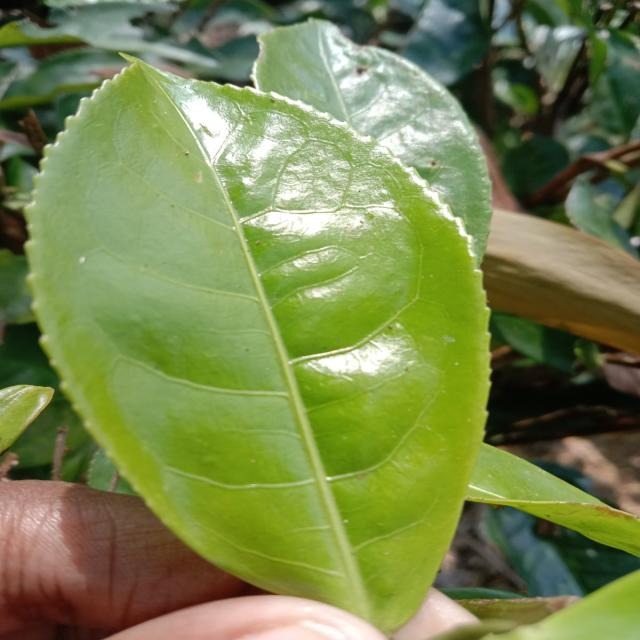Category B(2-4 days): (20, 42, 504, 639)
